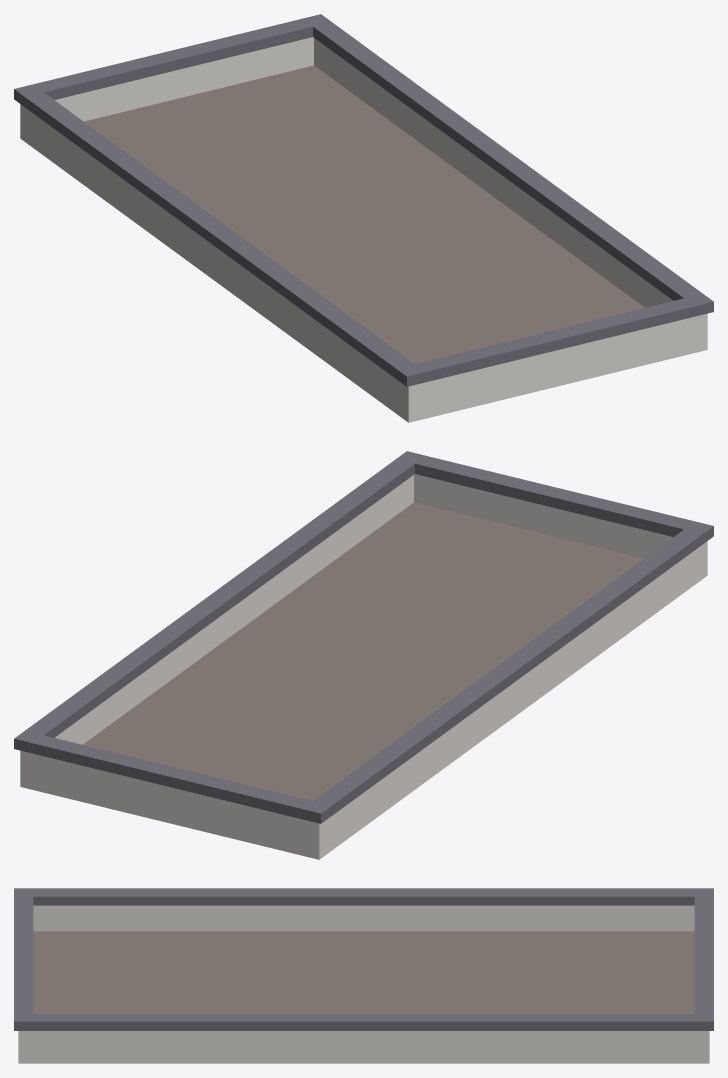
File: SM_Roof_NarrowFlatPlain_White_364_01.gltf
3 views of the same model, one above another, from view 1: azimuth 30°, elevation 25°; view 2: azimuth 150°, elevation 25°; view 3: azimuth 270°, elevation 25° (orthographic). The views are drawn at different scales.
Visible parts, largest first — view 1: SM_Roof_NarrowFlatPlain_White_364_01; view 2: SM_Roof_NarrowFlatPlain_White_364_01; view 3: SM_Roof_NarrowFlatPlain_White_364_01.
Boxes of the visible parts, bbox=[...] form: SM_Roof_NarrowFlatPlain_White_364_01: bbox=[14, 14, 713, 422]; SM_Roof_NarrowFlatPlain_White_364_01: bbox=[14, 451, 713, 859]; SM_Roof_NarrowFlatPlain_White_364_01: bbox=[14, 888, 713, 1063].
Bounding box in the file's own units: 3.74 × 0.57 × 8.29.
Materials: 1 (1 with a texture image).
